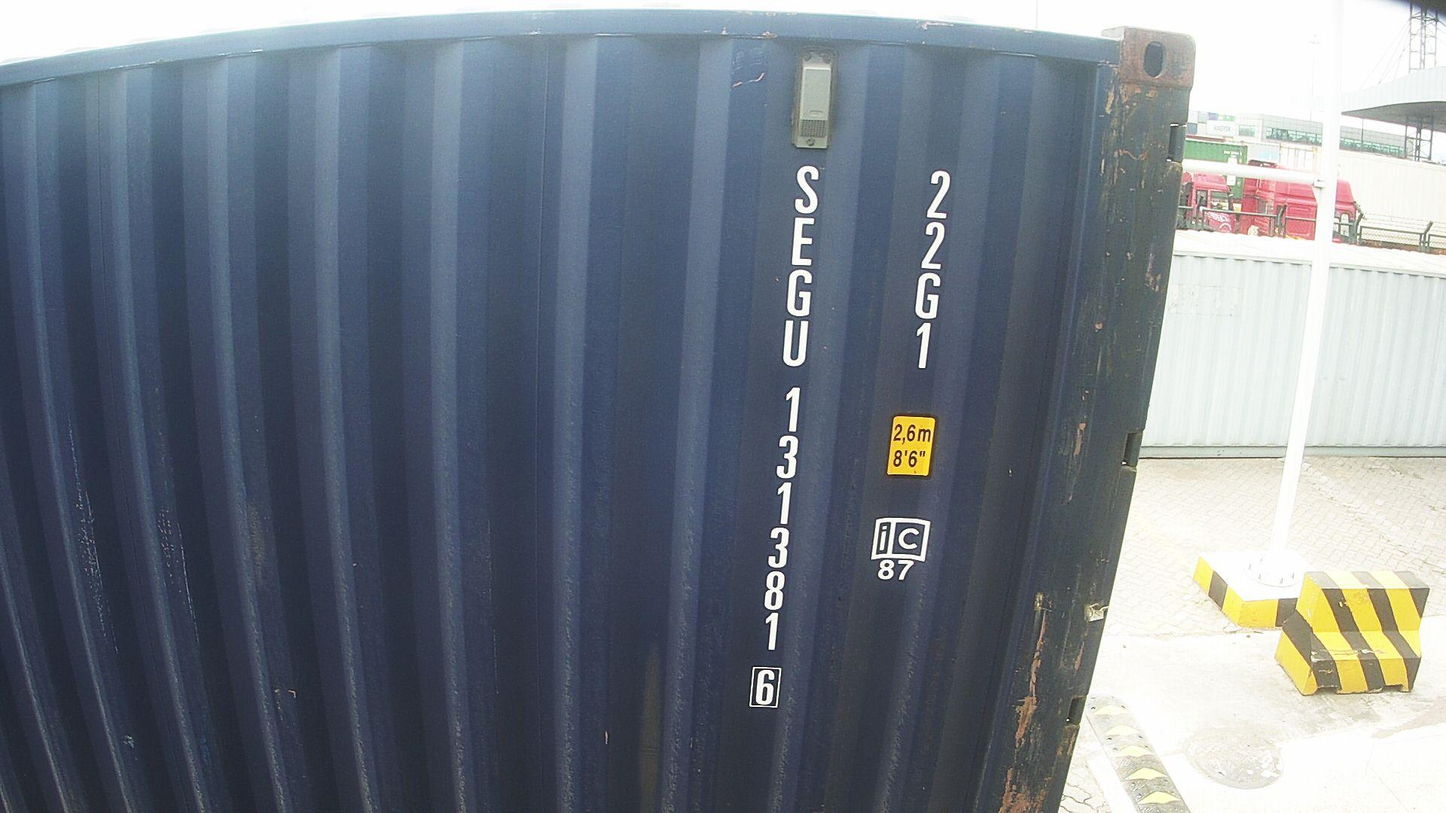container-numbers: (744, 159, 825, 715), (904, 164, 956, 379)
